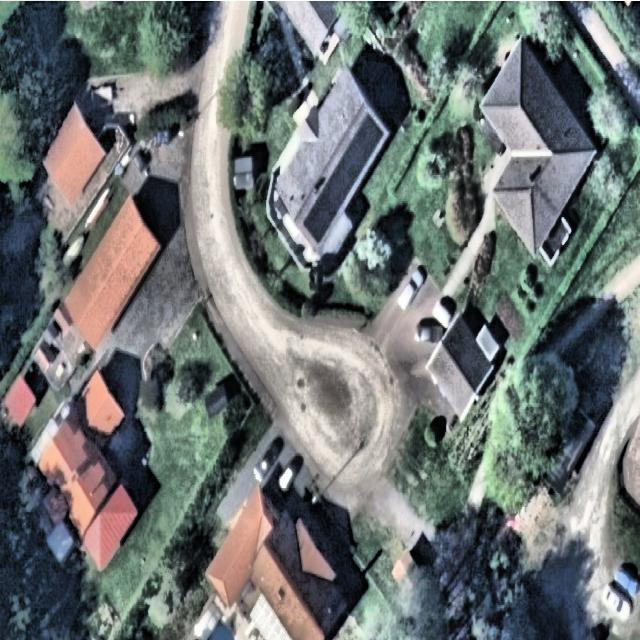roof_pv: (345, 108, 385, 172), (324, 151, 363, 215), (303, 188, 339, 243)
